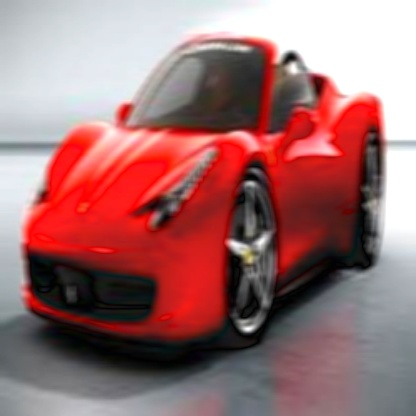Vehicle: (21, 18, 380, 344)
